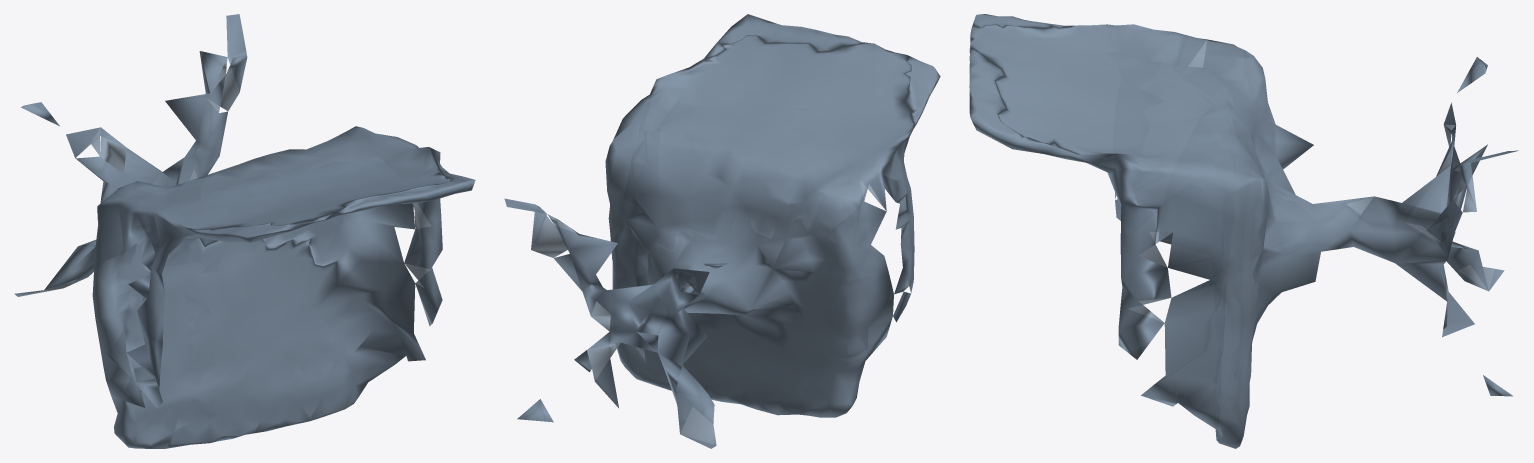
Rendered from sample_256_recon.obj.
The picture shows the model from 3 angles, left to right: view 1: azimuth 30°, elevation 25°; view 2: azimuth 150°, elevation 25°; view 3: azimuth 270°, elevation 25°; orthographic projection. The views are drawn at different scales.
Size of the model in its own units: 0.9362 by 0.9615 by 1.41.
